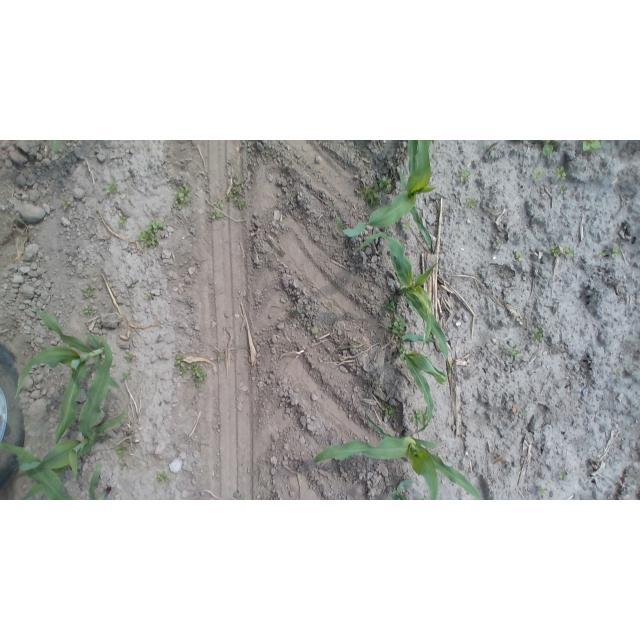Maize: (13, 336, 129, 484), (310, 408, 487, 501), (14, 302, 122, 445), (353, 234, 452, 359), (332, 140, 442, 250), (0, 438, 116, 500), (394, 328, 447, 428), (382, 473, 418, 500), (48, 141, 66, 160)
Weeds: (174, 355, 211, 389), (223, 170, 249, 210), (360, 175, 392, 206), (137, 217, 165, 249), (171, 184, 193, 212), (113, 445, 131, 475), (208, 196, 225, 224), (547, 245, 578, 260), (388, 312, 405, 337), (410, 409, 430, 430), (525, 325, 544, 347), (380, 297, 403, 313), (58, 195, 75, 215), (580, 140, 604, 154), (379, 404, 396, 423), (103, 178, 118, 199), (530, 163, 546, 181), (459, 167, 474, 186), (541, 140, 555, 160), (464, 194, 481, 210), (80, 283, 96, 299), (552, 167, 569, 182), (155, 469, 169, 485), (79, 304, 97, 316), (506, 347, 520, 362), (401, 218, 412, 236), (121, 367, 132, 384), (231, 490, 249, 500), (517, 406, 529, 420), (556, 469, 568, 483), (124, 349, 135, 364), (536, 485, 549, 497), (118, 214, 129, 228), (397, 344, 406, 359), (610, 246, 621, 258), (127, 276, 138, 288), (309, 324, 320, 336), (613, 367, 623, 380), (145, 291, 156, 302), (494, 237, 504, 247), (596, 249, 606, 259), (514, 250, 523, 261), (560, 184, 569, 195), (289, 305, 295, 315)
